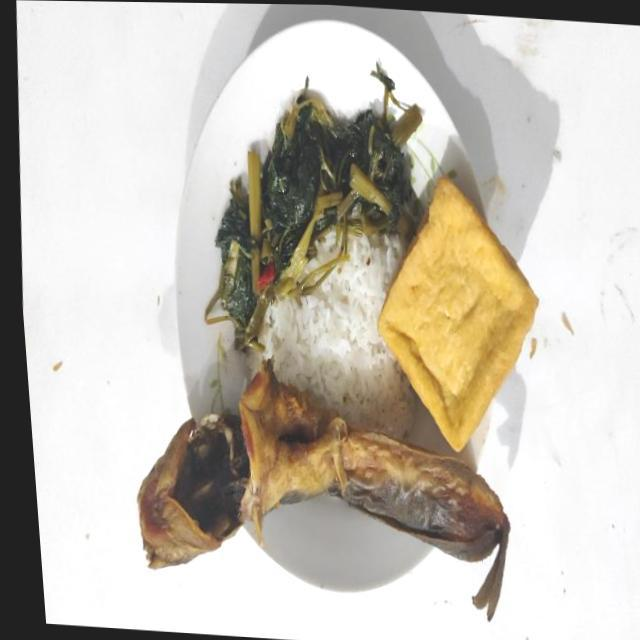nasi_putih: (260, 234, 416, 438)
tahu_goreng: (378, 177, 538, 452)
tumis_kangkung: (205, 66, 423, 352)
